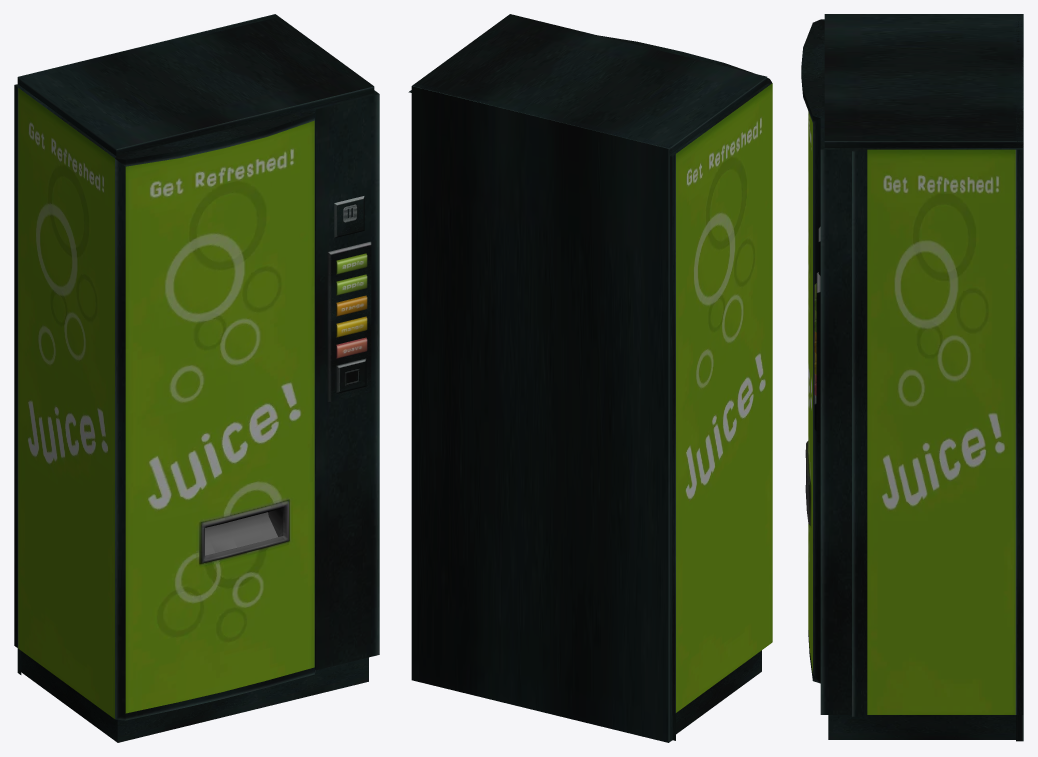
File: vending-machine-size-1-3.glb
3 renders of one model, left to right at view 1: azimuth 30°, elevation 25°; view 2: azimuth 150°, elevation 25°; view 3: azimuth 270°, elevation 25°, orthographic.
Parts seen in each view (by area): view 1: default; view 2: default; view 3: default.
Part boxes in pixels (bbox=[...]): default: bbox=[14, 14, 379, 742]; default: bbox=[408, 14, 772, 742]; default: bbox=[801, 14, 1023, 741].
Size of the model in its own units: 1 by 2.12 by 0.7139.
1 material, 1 textured.
